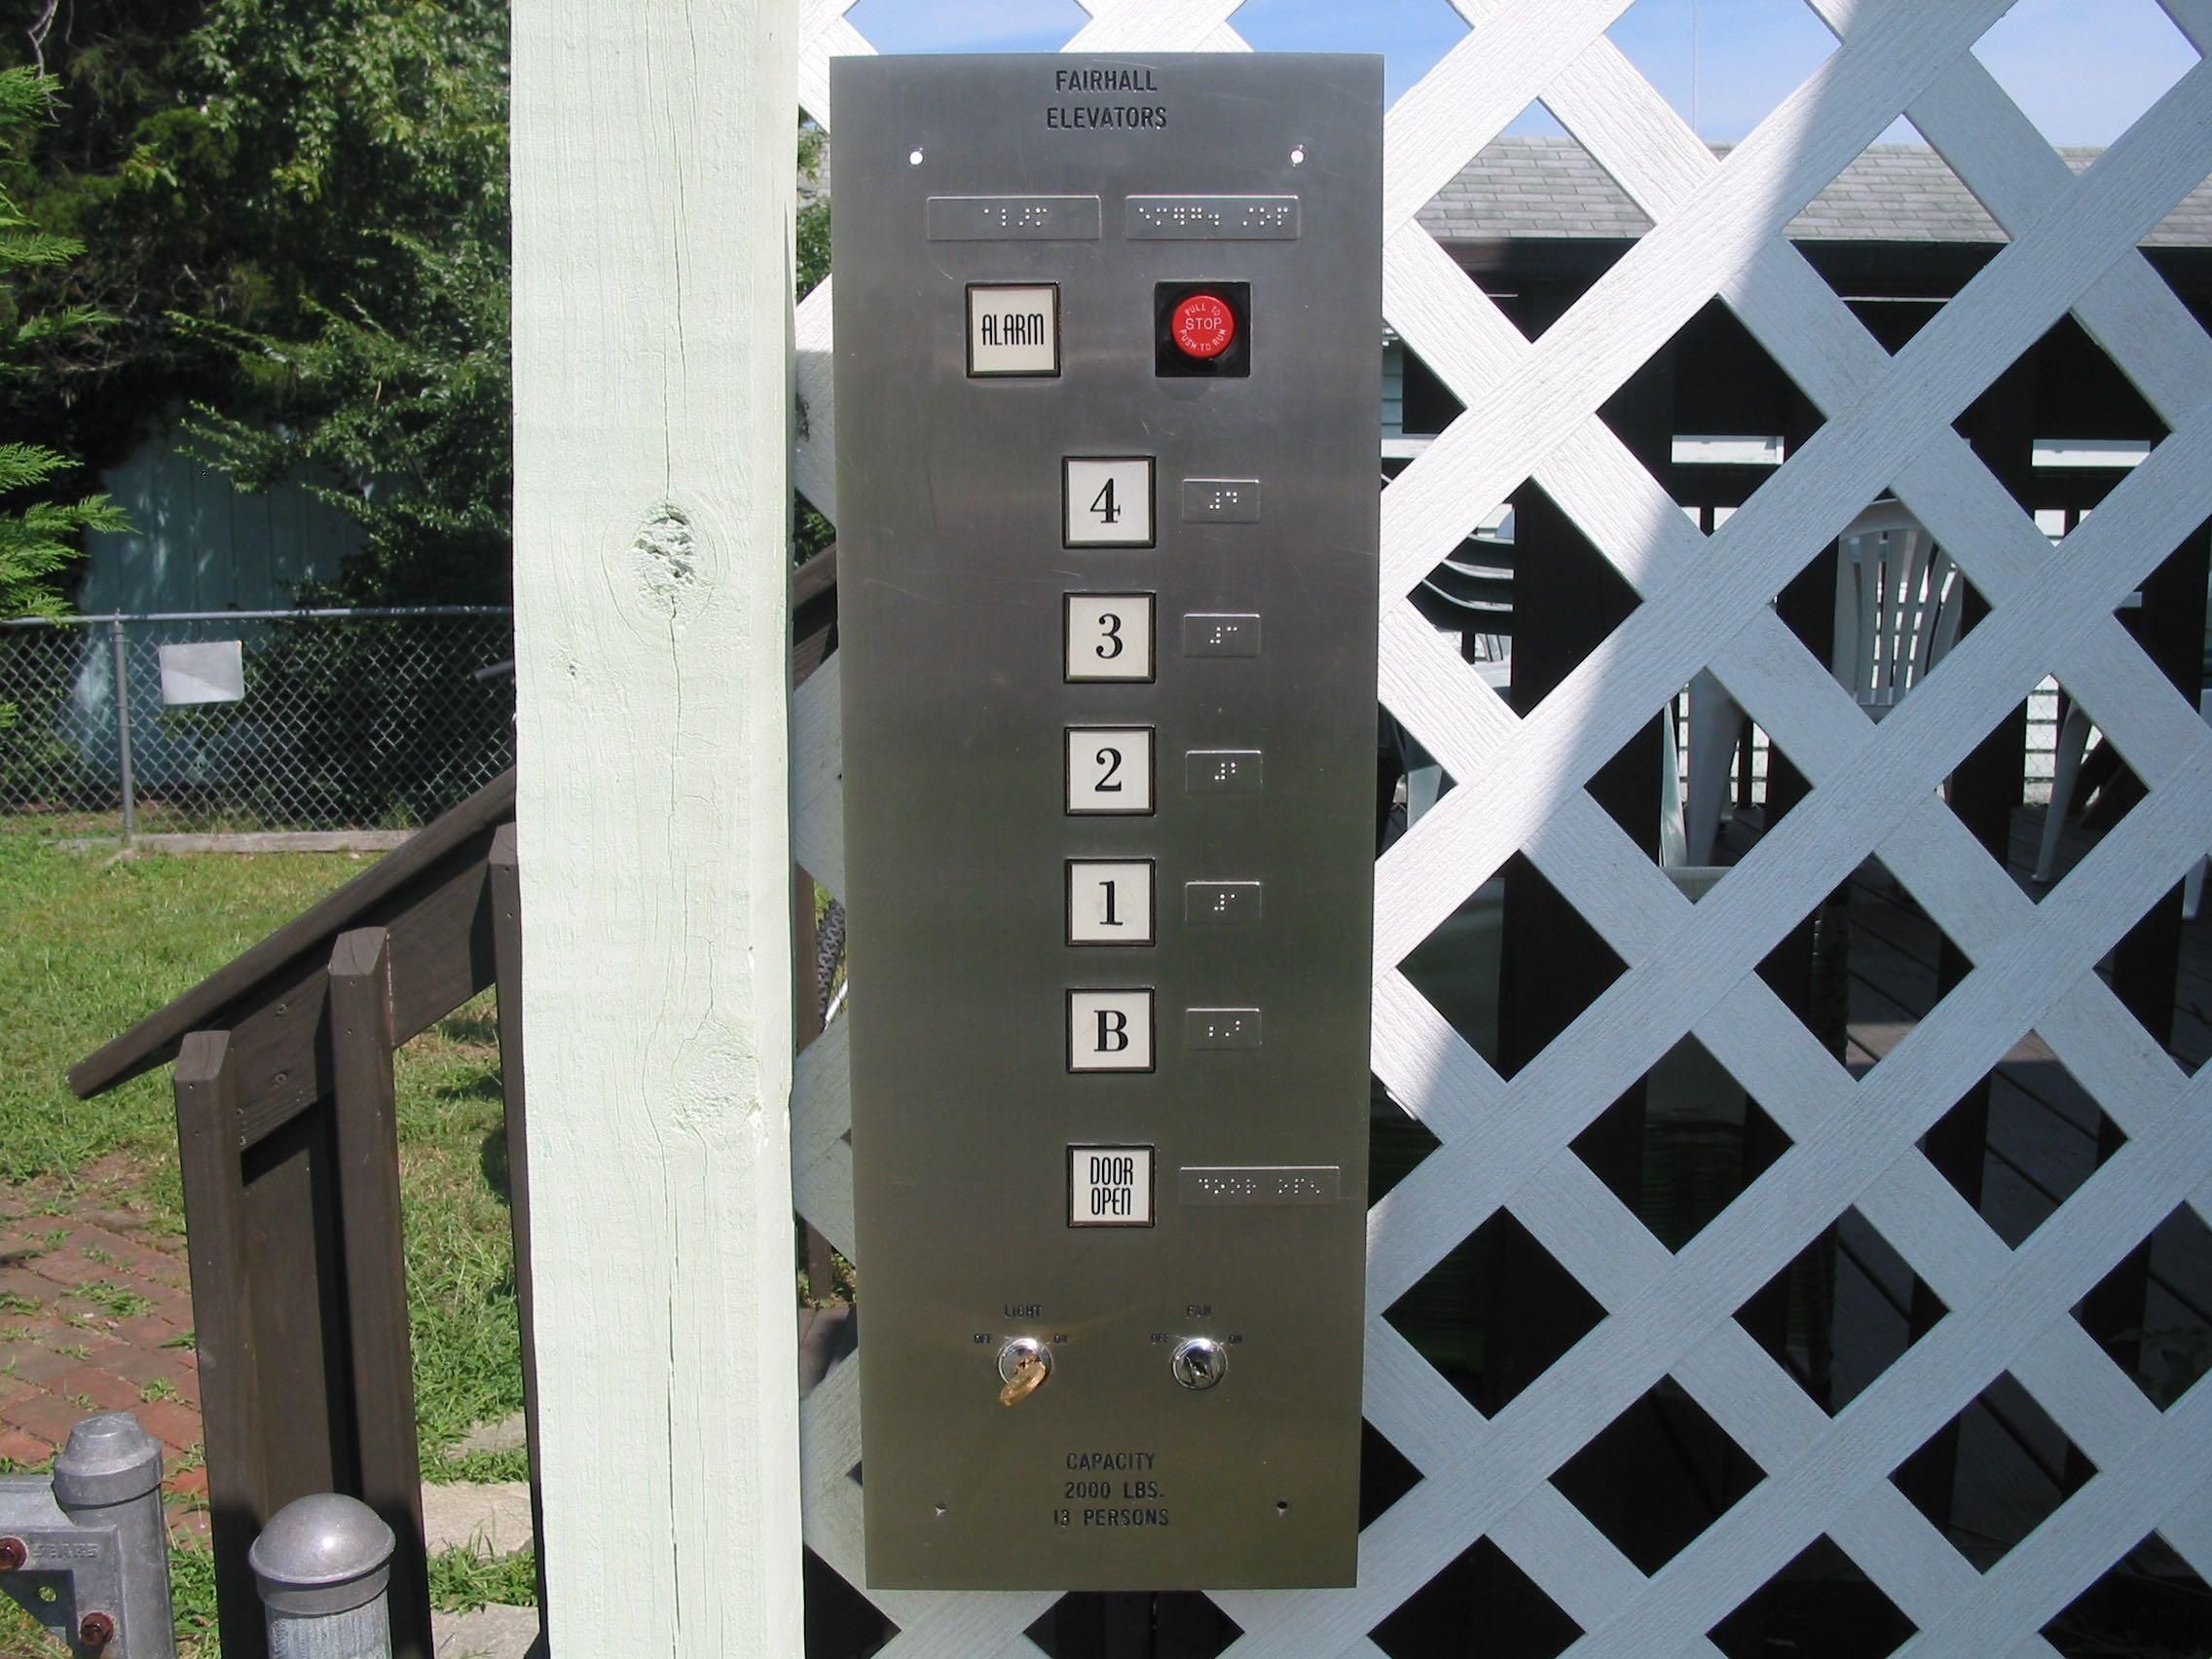1: (1062, 856, 1158, 950)
2: (1061, 723, 1158, 821)
3: (1059, 587, 1160, 687)
4: (1059, 453, 1160, 552)
B: (1062, 985, 1158, 1075)
keyhole: (996, 1337, 1054, 1406), (1169, 1337, 1228, 1391)
text: (1062, 1140, 1158, 1232)
text_alarm: (963, 279, 1064, 385)
text_stop: (1151, 279, 1252, 380)
